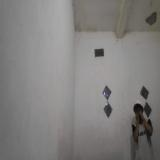Helmet: (134, 98, 144, 114)
